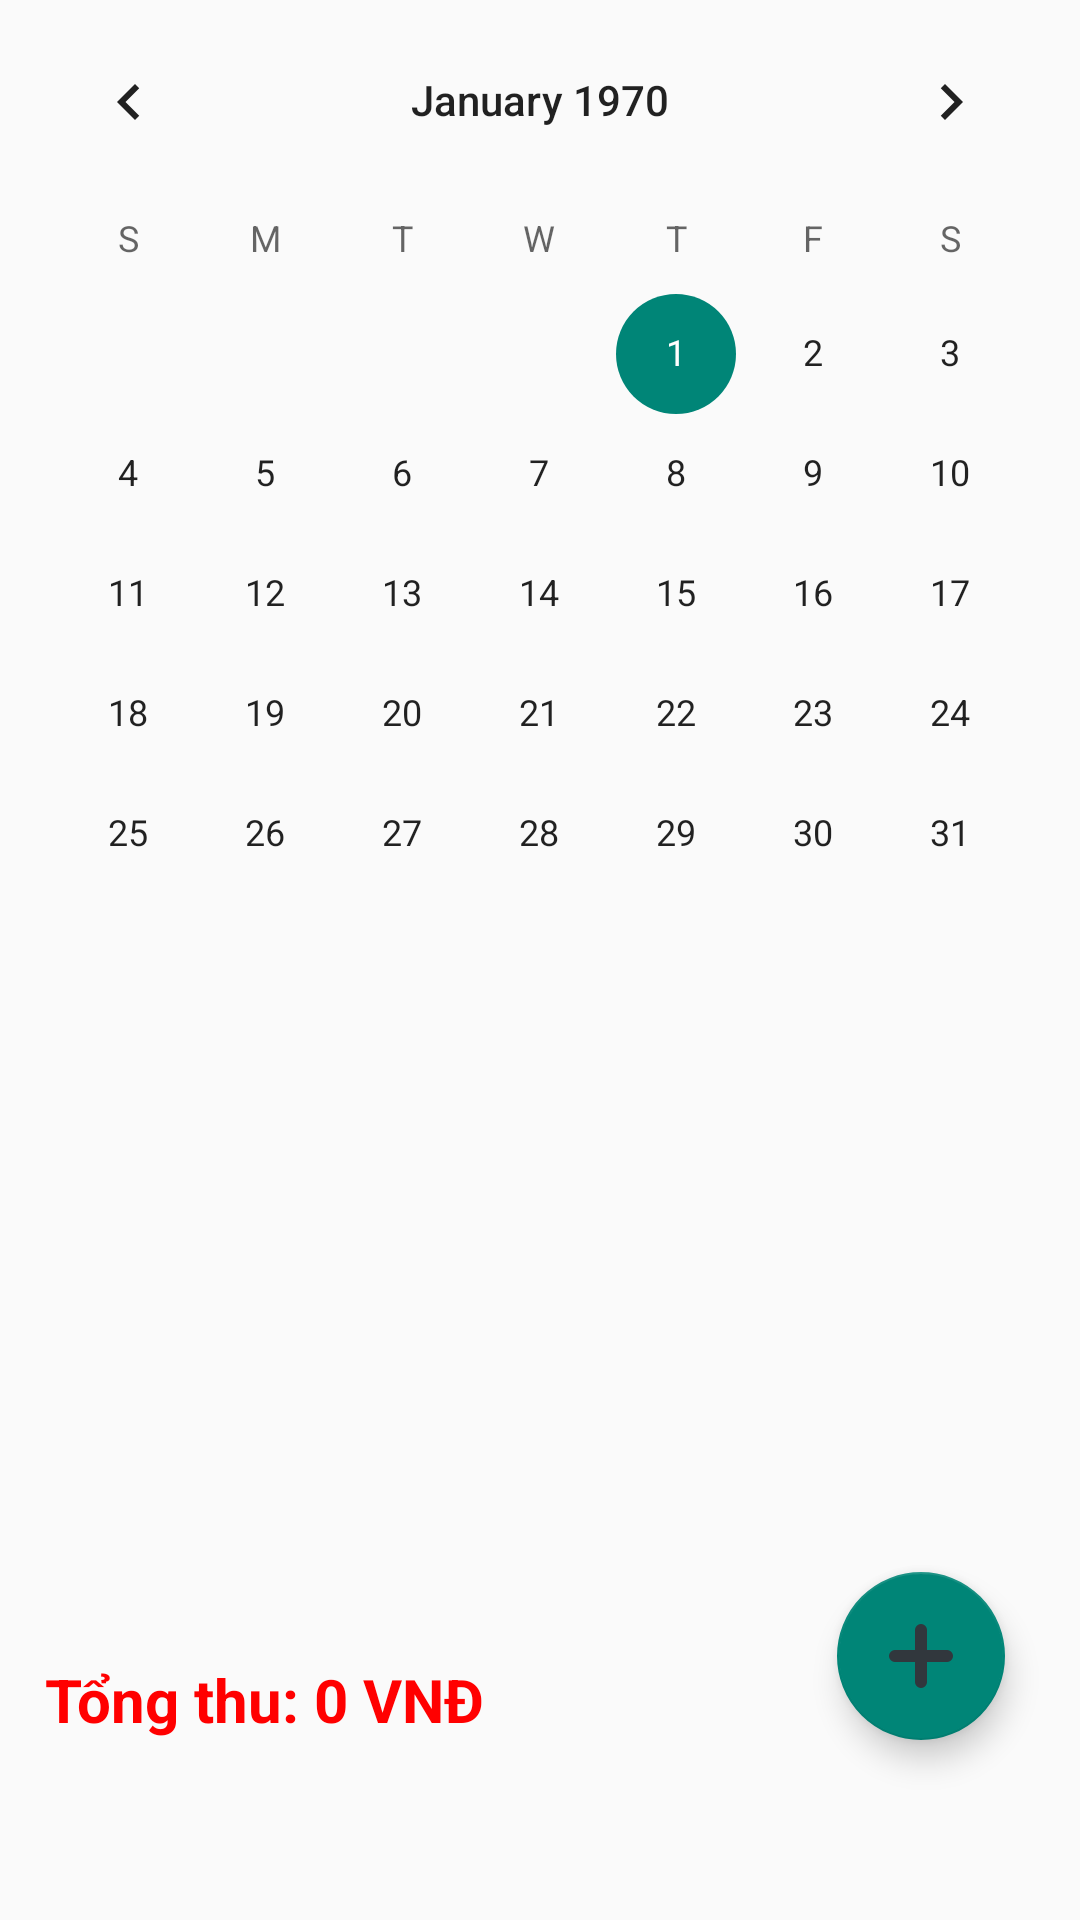

Locate icon controls on the screen. Image size 1080x1920, boxes as (x1, y1, x2, y2).
plus: (837, 1572, 1005, 1740)
